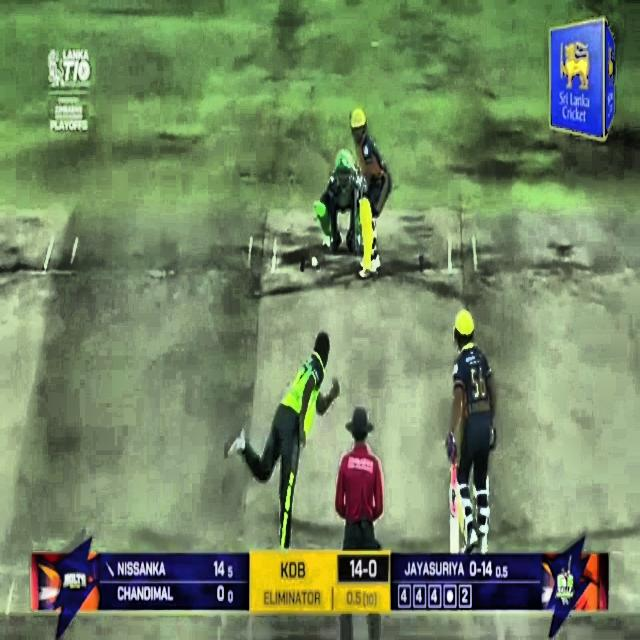Left-stump: (354, 189, 356, 256)
Middle-stump: (360, 229, 362, 256)
